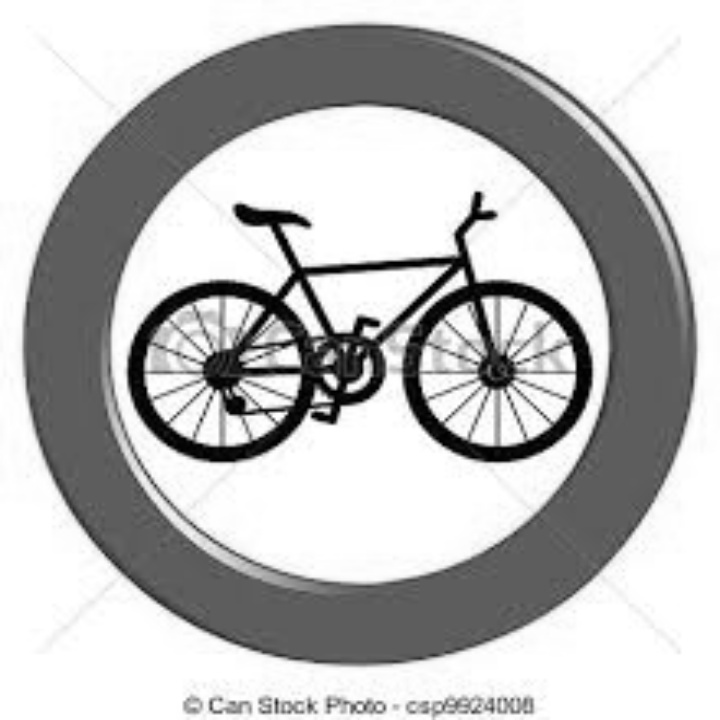bicycle: (103, 81, 602, 580)
